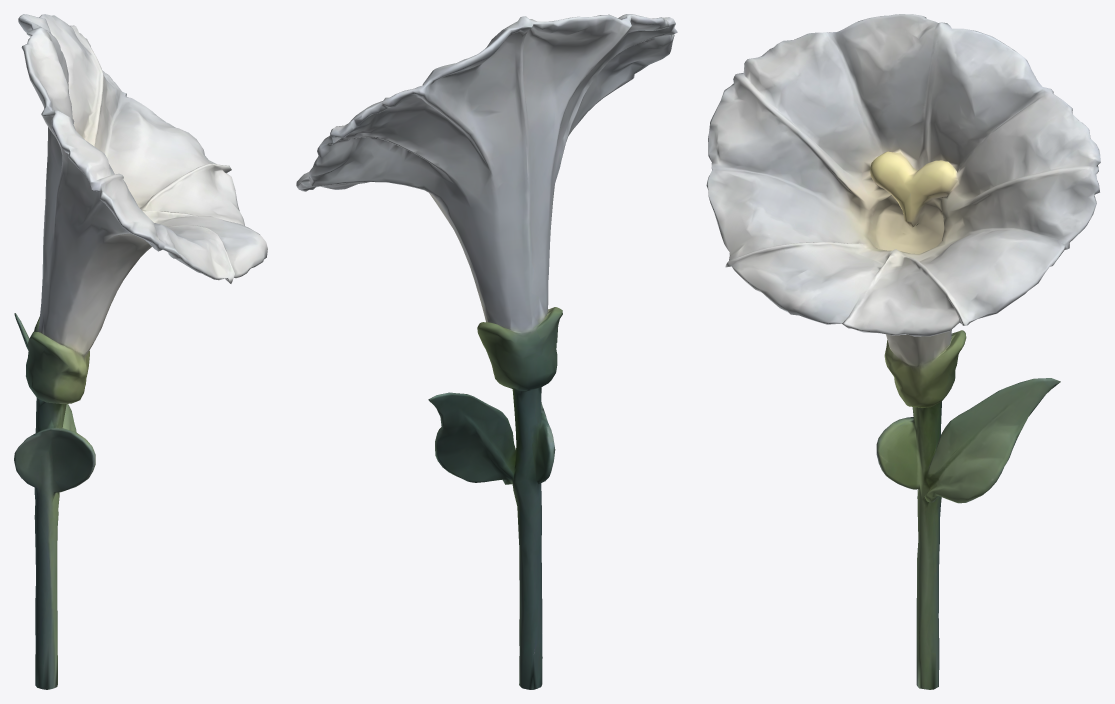
The model's file is moon-bloom.glb.
The picture shows the model from 3 angles, left to right: view 1: azimuth 30°, elevation 25°; view 2: azimuth 150°, elevation 25°; view 3: azimuth 270°, elevation 25°; orthographic projection. The views are drawn at different scales.
Parts seen in each view (by area): view 1: tripo_node_01a2213b-9aa8-7335-9155-7c444ac2e917; view 2: tripo_node_01a2213b-9aa8-7335-9155-7c444ac2e917; view 3: tripo_node_01a2213b-9aa8-7335-9155-7c444ac2e917.
Boxes of the visible parts, x1,y1,x2,y2 form: tripo_node_01a2213b-9aa8-7335-9155-7c444ac2e917: (14, 14, 267, 689); tripo_node_01a2213b-9aa8-7335-9155-7c444ac2e917: (296, 14, 677, 689); tripo_node_01a2213b-9aa8-7335-9155-7c444ac2e917: (706, 14, 1100, 689).
Size of the model in its own units: 0.4159 by 1 by 0.5391.
Materials: 1 (1 with a texture image).
